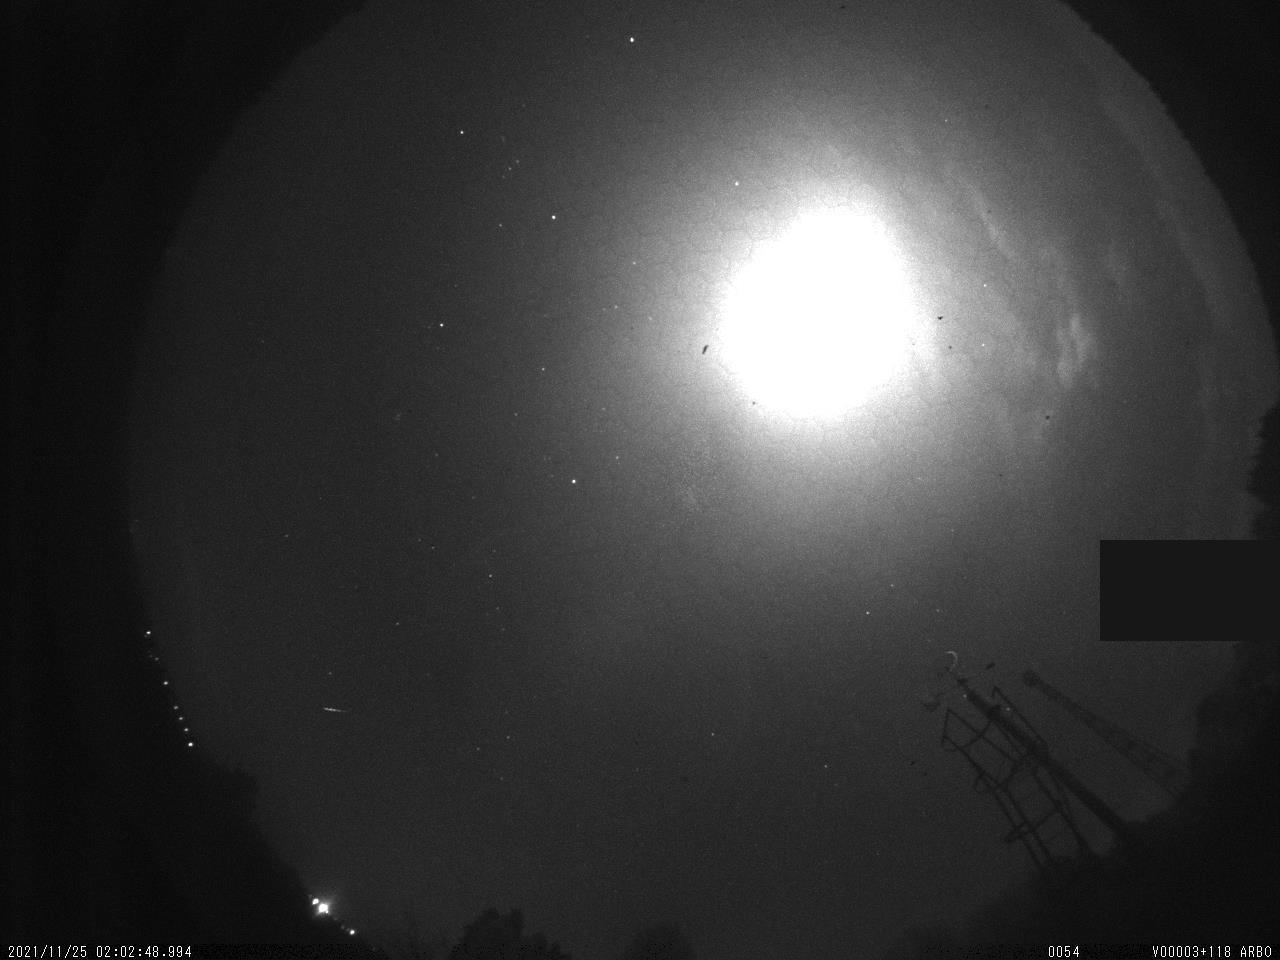meteor: (313, 695, 357, 723)
